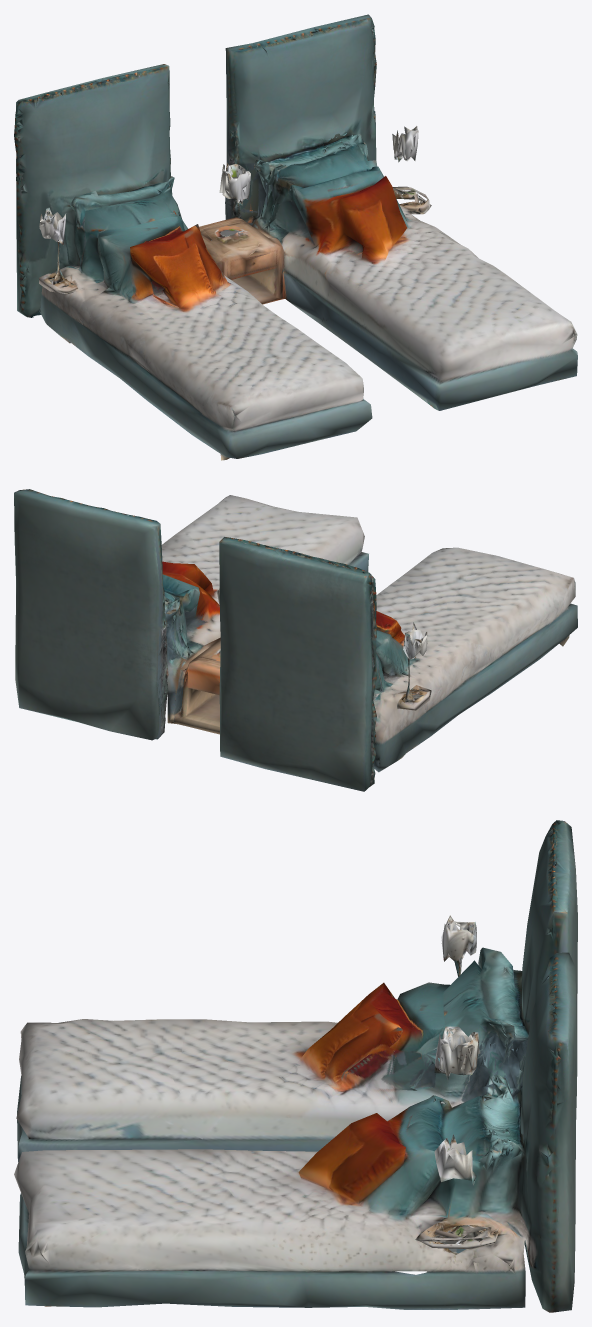
Rendered from Twin_Serenity_0506154612_texture.glb.
3 renders of one model, top to bottom at view 1: azimuth 30°, elevation 25°; view 2: azimuth 150°, elevation 25°; view 3: azimuth 270°, elevation 25°, orthographic. The views are drawn at different scales.
Bounding box in the file's own units: 1.99 × 1.11 × 2.
Materials: 1 (1 with a texture image).
